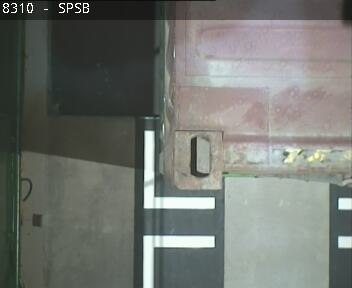groundmarker_1: (142, 128, 216, 288)
